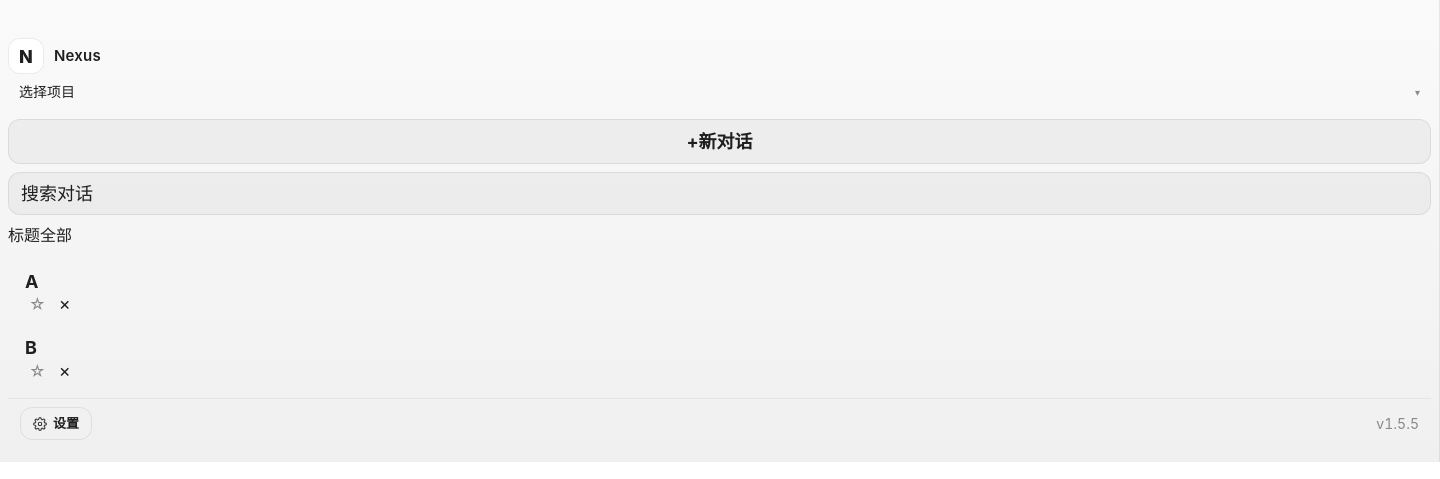
Scenario: Sidebar 搜索 + 重命名(第九轮 UI 重设计) › 查询无命中 → 不显示会话项(empty 状态不出现因为有 conv.length > 0)
Type "zzzNotFound" into the search field with placeholder "搜索对话" at (720, 194), box [8,172,1431,215]
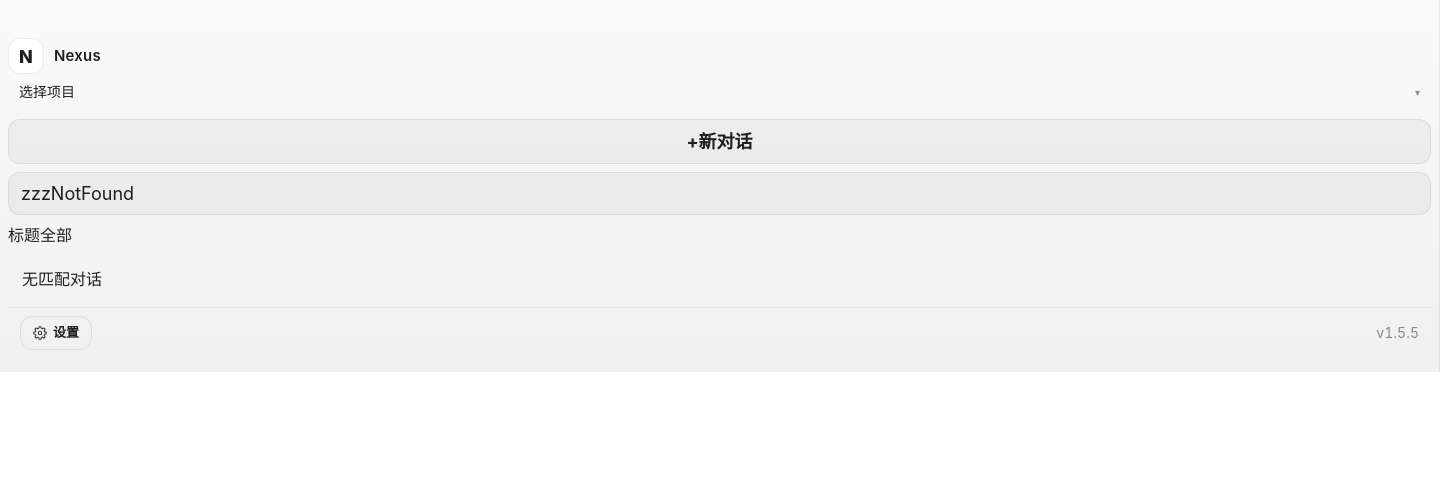
Expected: no buttons with class "task-item" are shown
Expected: the text "无匹配" is shown, [22,269,102,289]
